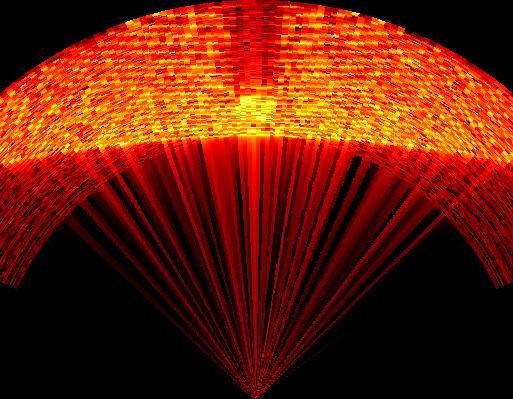box_crate: (221, 3, 292, 117)
